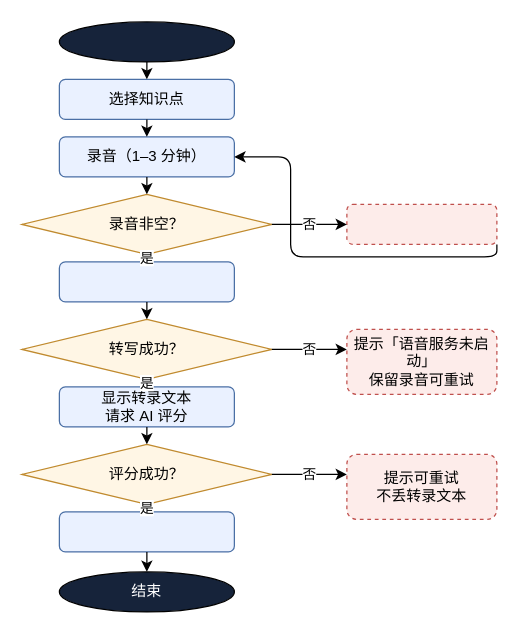
The diagram is 529 pixels wide and 634 high, and some of its shapes have lost their labels. The shapes that lost their labels are listed below. From the top down, each one's centre as x and y in pixels, then its label:
At (146,41): "开始".
At (421,223): "重新录音".
At (146,281): "上传并语音转写".
At (146,531): "保存 Attempt 推进学习状态".
